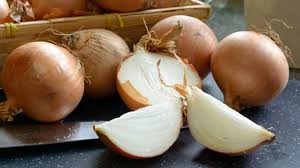Onion: (2, 41, 86, 122), (210, 30, 292, 108)
